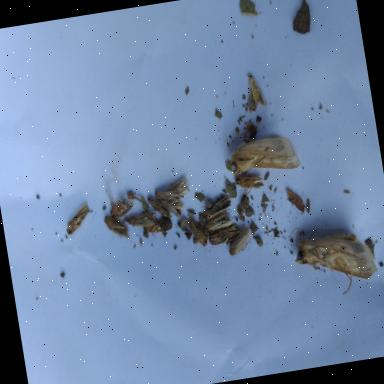abw: (284, 214, 380, 304), (226, 132, 302, 178)
pbw: (103, 184, 136, 219), (154, 186, 187, 220), (63, 202, 93, 236), (184, 207, 208, 248), (102, 210, 131, 242), (226, 226, 256, 256), (202, 193, 234, 220), (206, 222, 241, 246), (124, 210, 159, 231), (146, 194, 172, 222), (142, 218, 174, 240), (234, 172, 266, 194), (166, 176, 192, 201), (201, 212, 233, 231)
